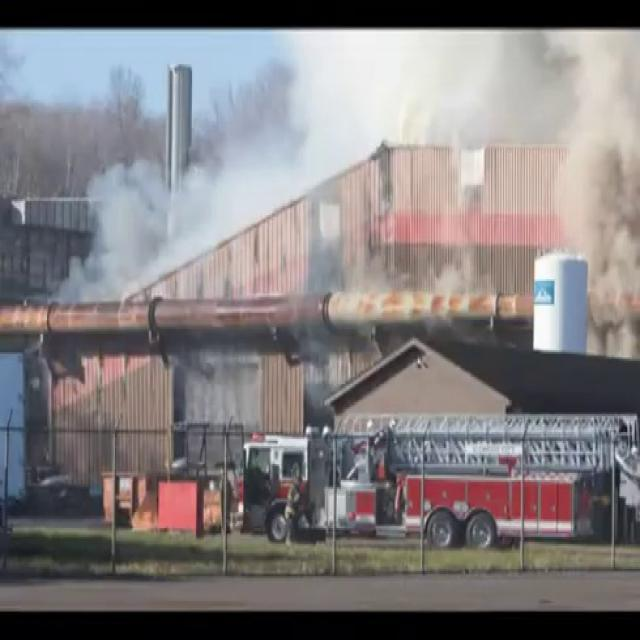Smoke: (403, 28, 640, 343), (60, 76, 303, 310)
